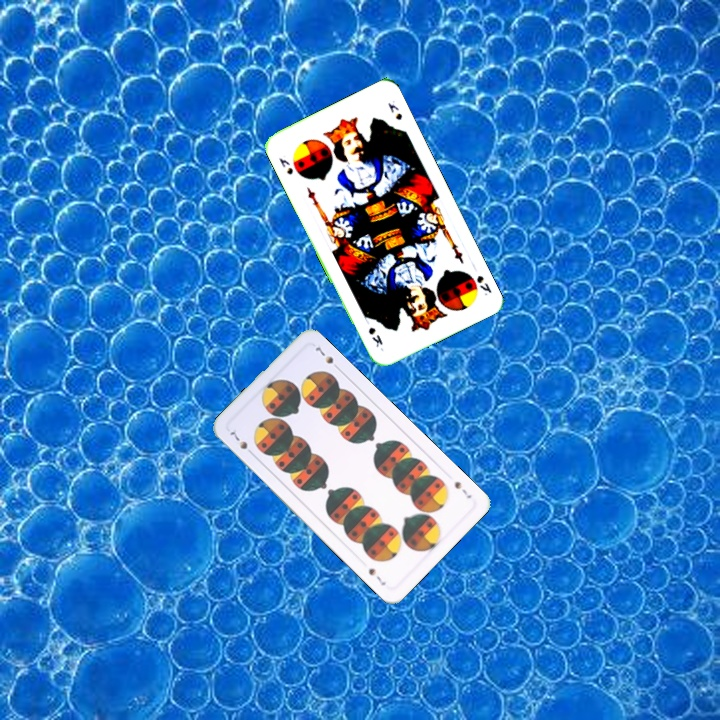S7: (226, 427, 257, 458), (450, 477, 474, 501)
SK: (472, 271, 494, 298), (275, 153, 296, 177)
